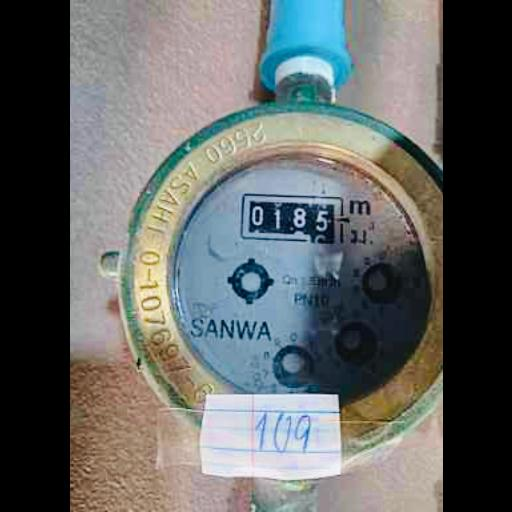0: (248, 201, 269, 233)
1: (268, 202, 288, 234)
5: (310, 203, 335, 244)
8: (286, 202, 310, 235)
border_water_meter_number: (240, 194, 345, 245)
